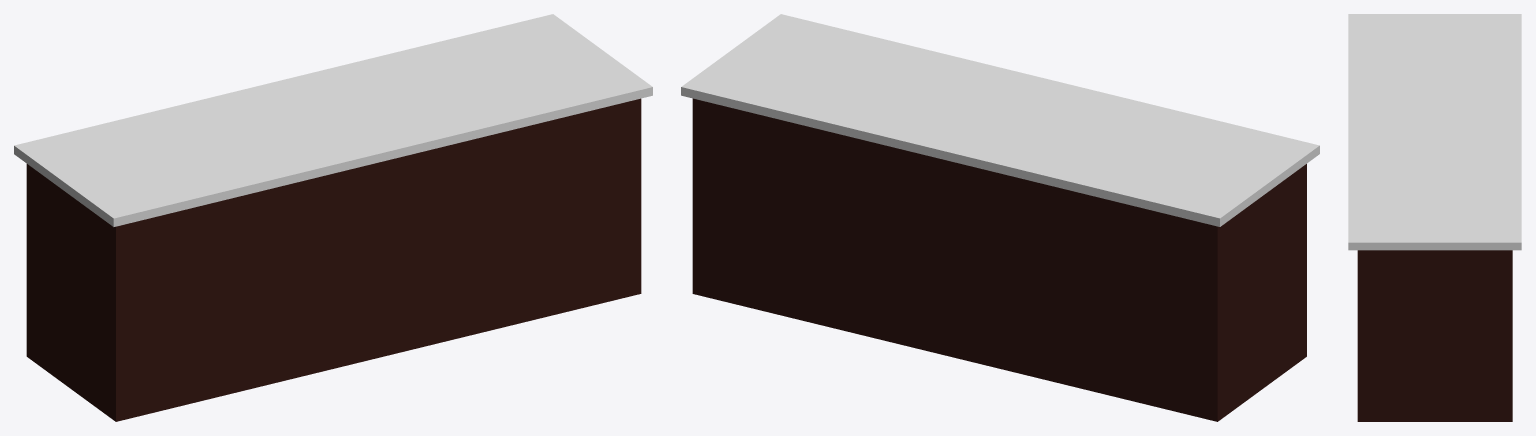
3 renders of one model, left to right at view 1: azimuth 30°, elevation 25°; view 2: azimuth 150°, elevation 25°; view 3: azimuth 270°, elevation 25°, orthographic. The views are drawn at different scales.
Parts seen in each view (by area): view 1: kitchen_item_038; view 2: kitchen_item_038; view 3: kitchen_item_038.
Boxes of the visible parts, left/top/right/bottom form: kitchen_item_038: left=14, top=14, right=652, bottom=421; kitchen_item_038: left=681, top=14, right=1319, bottom=421; kitchen_item_038: left=1348, top=14, right=1521, bottom=421.
Size of the model in its own units: 1.96 by 0.7257 by 0.6273.
